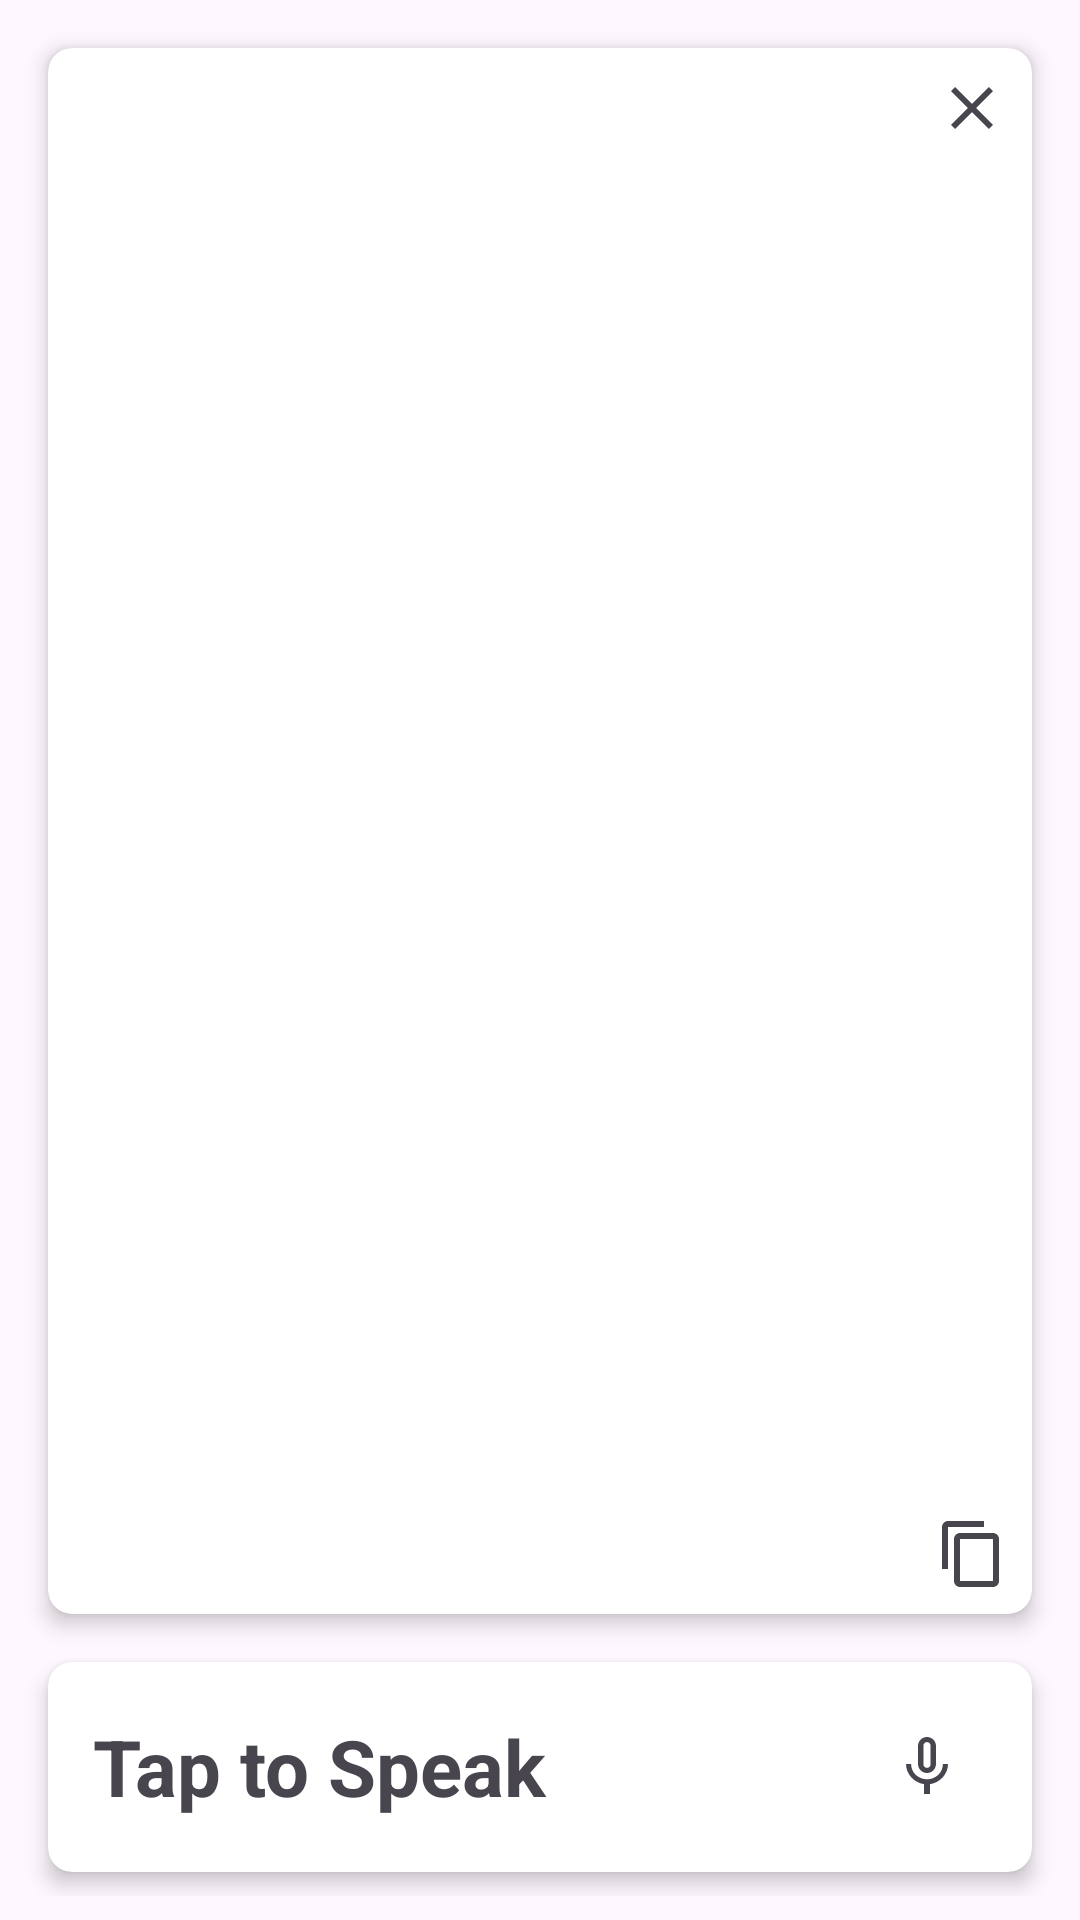

Icon bounding boxes for this 1080 × 1920 phone screenshot, format bbox=[x1, y1, x2, y2]:
close: bbox=[951, 87, 993, 129]
mic none: bbox=[906, 1737, 948, 1794]
